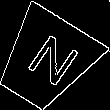N_SW: (14, 29, 78, 92)
